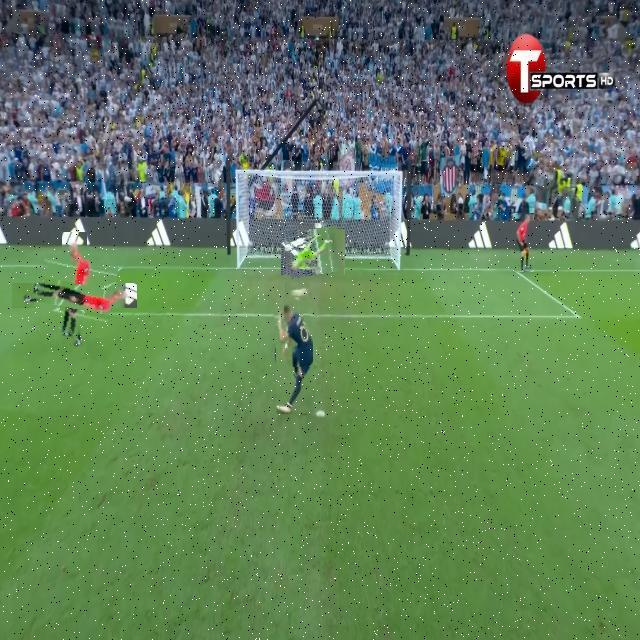ball: (287, 279, 309, 301)
goalkeeper: (284, 222, 343, 281)
player: (275, 301, 315, 415)
referee: (34, 255, 115, 336), (513, 213, 535, 272)
